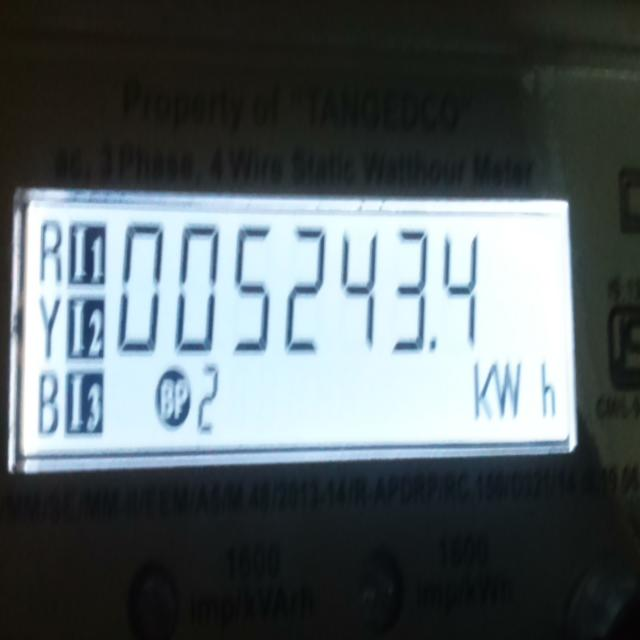.: (431, 340, 439, 352)
0: (117, 218, 161, 355), (176, 221, 217, 355)
2: (288, 224, 322, 352)
3: (396, 228, 428, 354)
4: (339, 233, 377, 345), (441, 231, 478, 345)
5: (234, 224, 270, 355)
